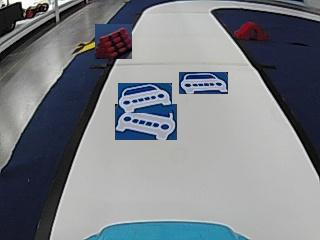bridge: (235, 20, 268, 40)
